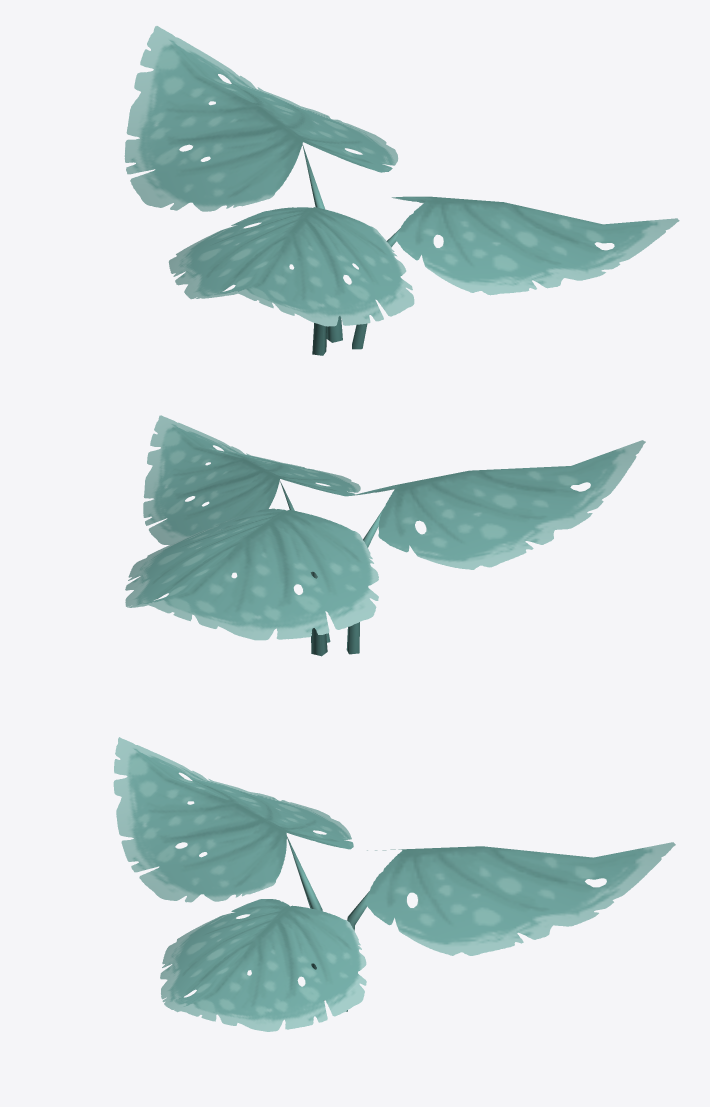
Rendered from SM_ENV_plant_ancient_12_01.fbx.
3 views of the same model, one above another, from view 1: azimuth 30°, elevation 25°; view 2: azimuth 150°, elevation 25°; view 3: azimuth 270°, elevation 25° (orthographic). The views are drawn at different scales.
Parts seen in each view (by area): view 1: SM_ENV_plant_ancient_12_01_LOD0; view 2: SM_ENV_plant_ancient_12_01_LOD0; view 3: SM_ENV_plant_ancient_12_01_LOD0.
Boxes of the visible parts, x1,y1,x2,y2 form: SM_ENV_plant_ancient_12_01_LOD0: (124, 26, 679, 355); SM_ENV_plant_ancient_12_01_LOD0: (125, 415, 645, 656); SM_ENV_plant_ancient_12_01_LOD0: (113, 737, 675, 1031).
Bounding box in the file's own units: 43.42 × 12.65 × 44.04.
